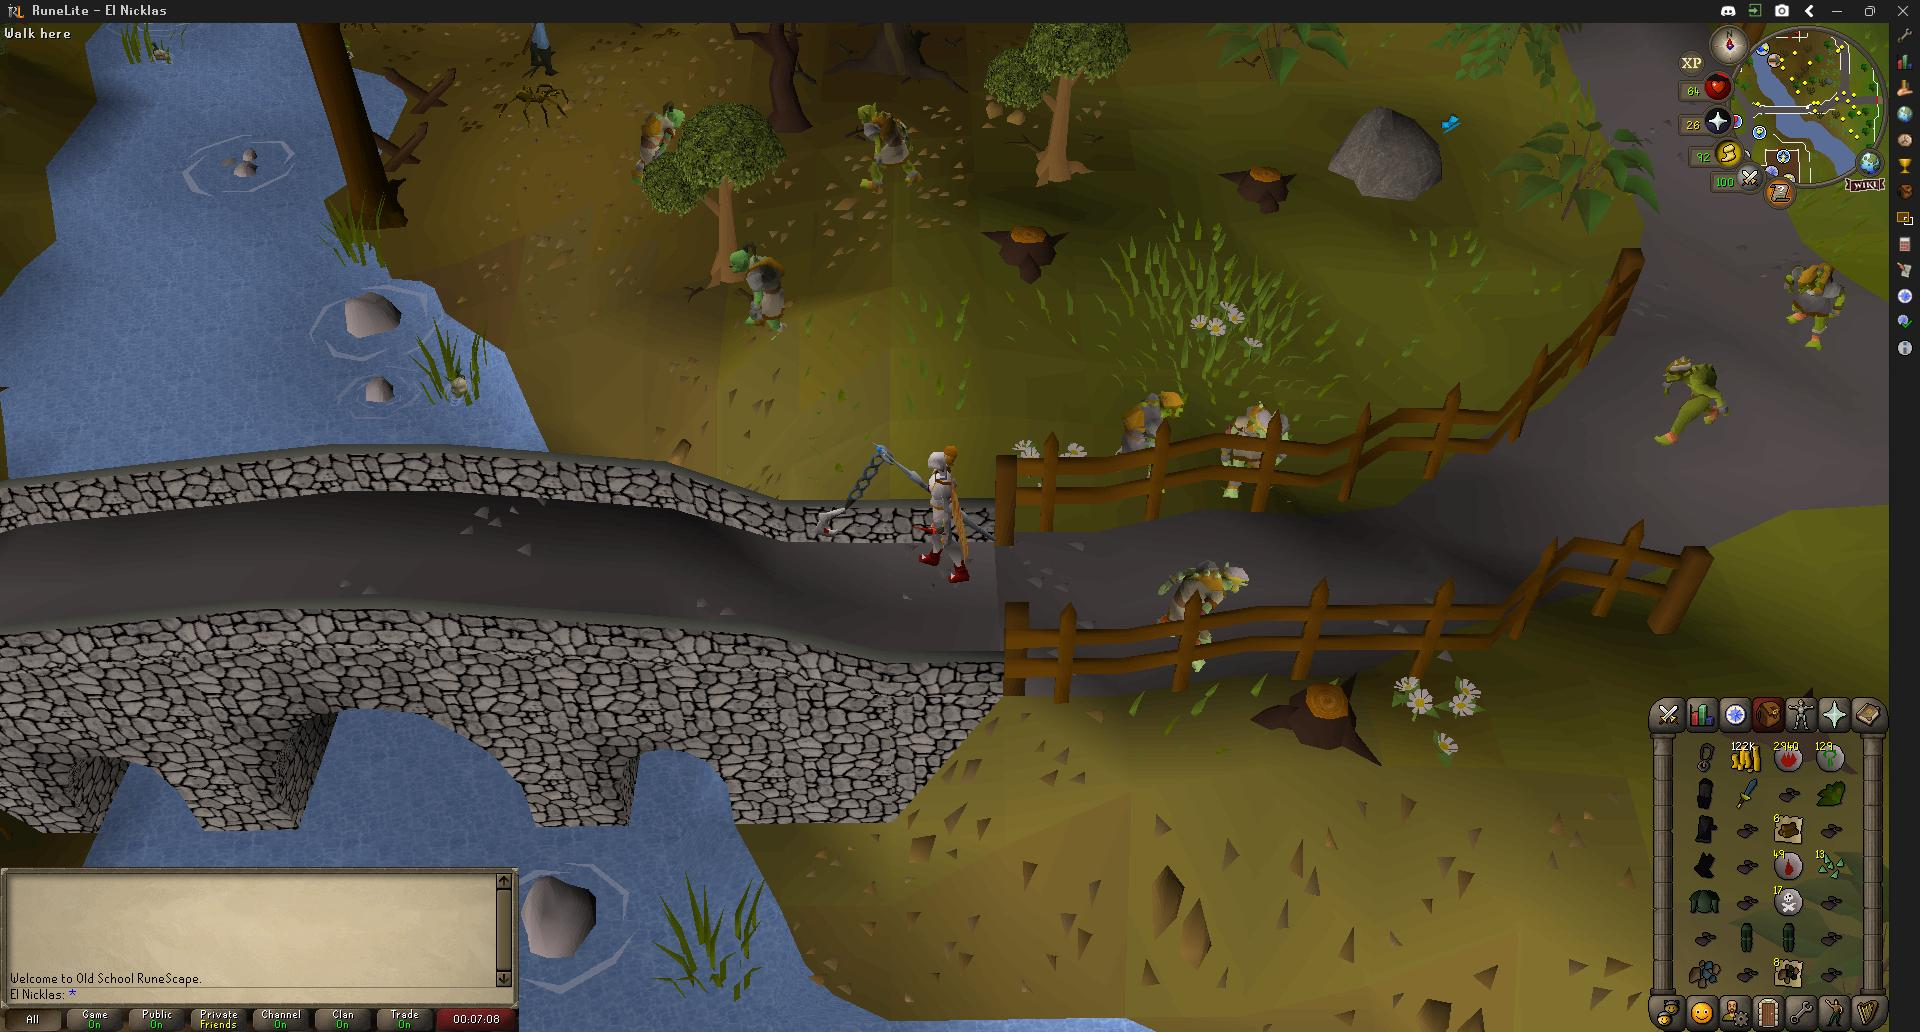goblin: (912, 447, 968, 578), (1160, 558, 1253, 637), (1217, 404, 1288, 494), (1653, 356, 1724, 444), (851, 102, 920, 191), (1785, 262, 1850, 346), (733, 245, 789, 334), (1114, 386, 1184, 452), (623, 104, 671, 180)
